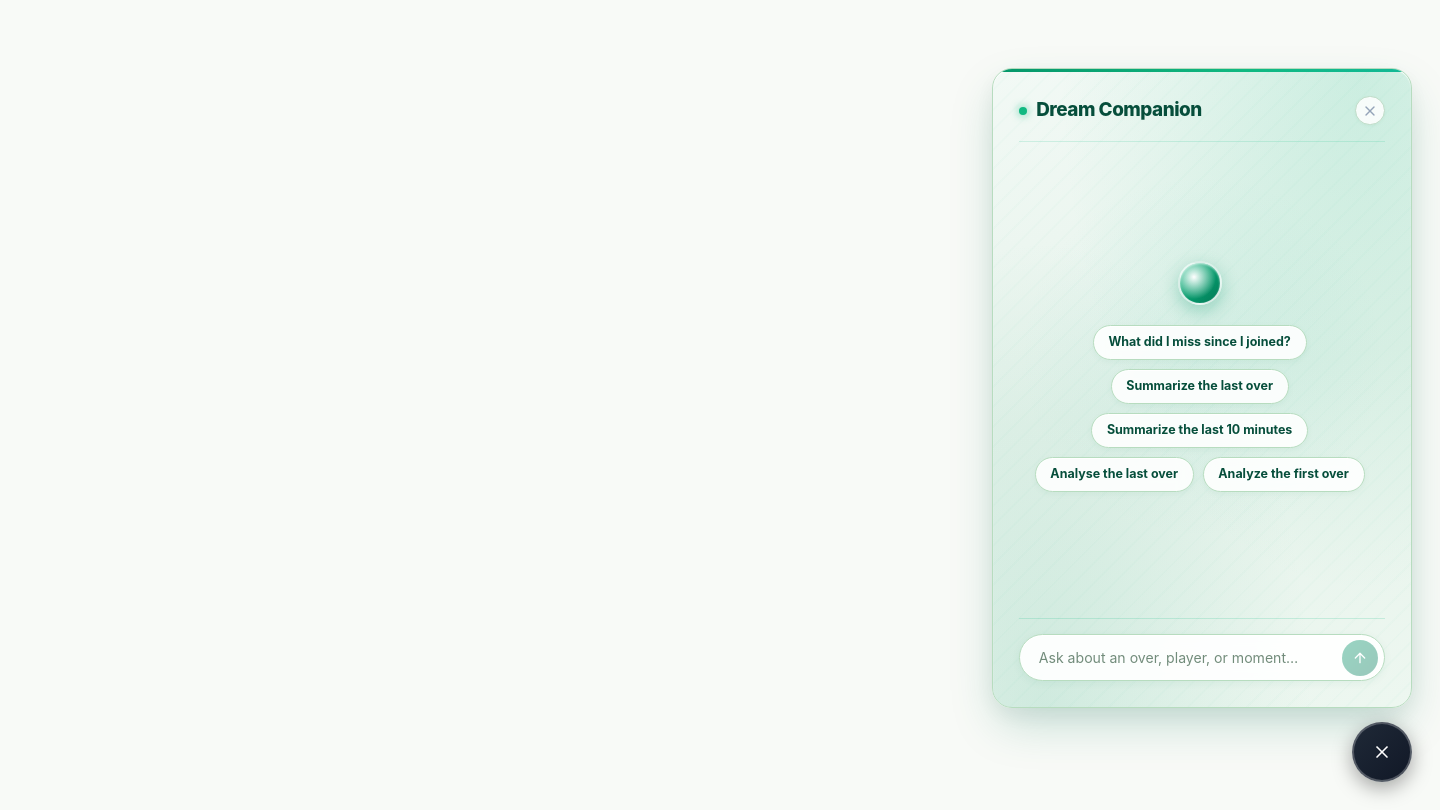
Test: MatchCompanionChat › disables input and hides prompt buttons while request is in-flight to prevent duplicate submissions
Later steps or results of the test are not shown.
Click the button "Summarize the last over".
click(1200, 387)  # box [1110,369,1289,404]
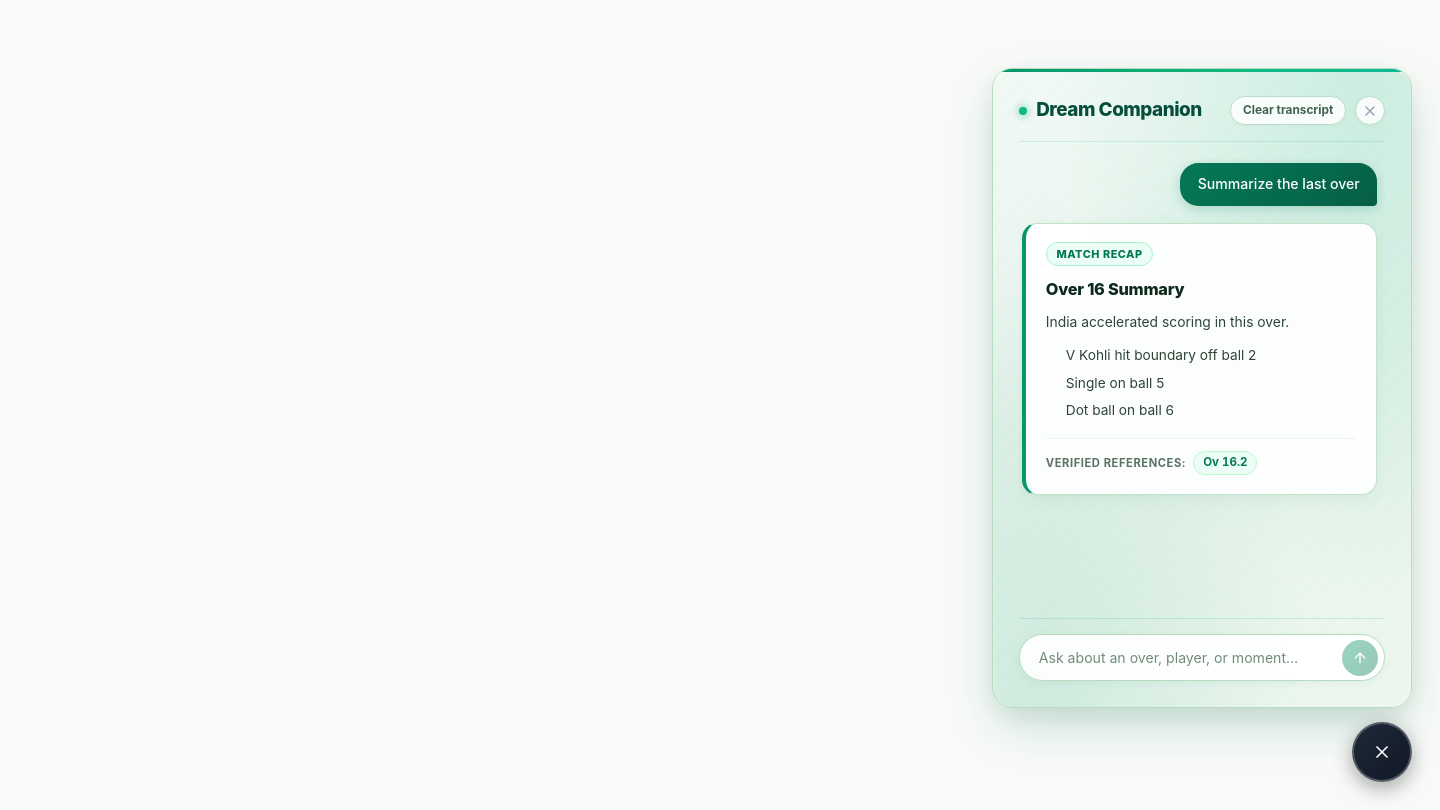
Expected: the button named "Submitting query…" is disabled, [1342,640,1378,676]
Result: the heading "Over 16 Summary" is shown at [1046,279,1184,299]
